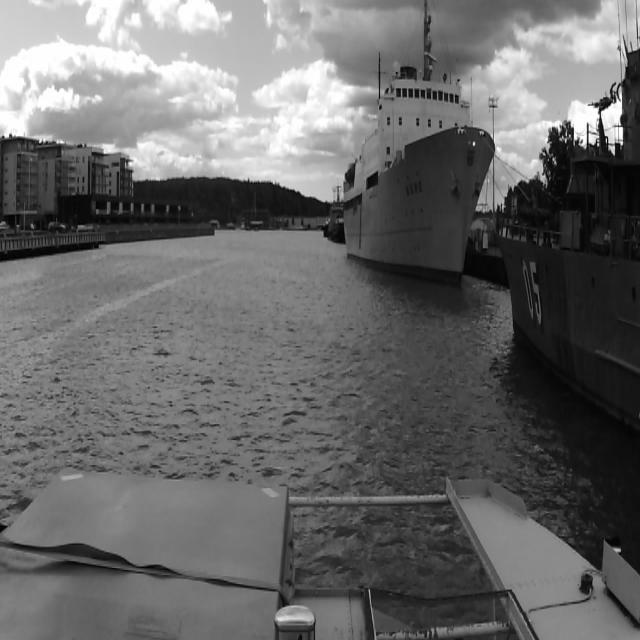ship: (499, 31, 634, 431), (342, 63, 494, 280), (324, 185, 344, 242), (334, 214, 344, 244)
